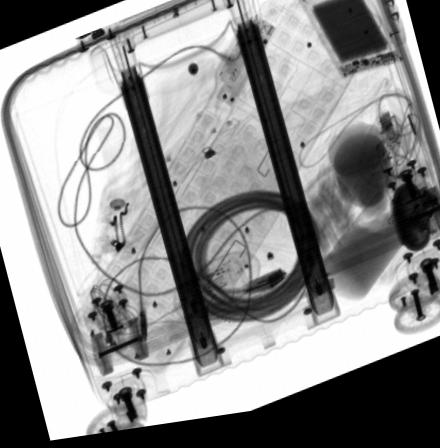Powerbank: (298, 0, 403, 89)
